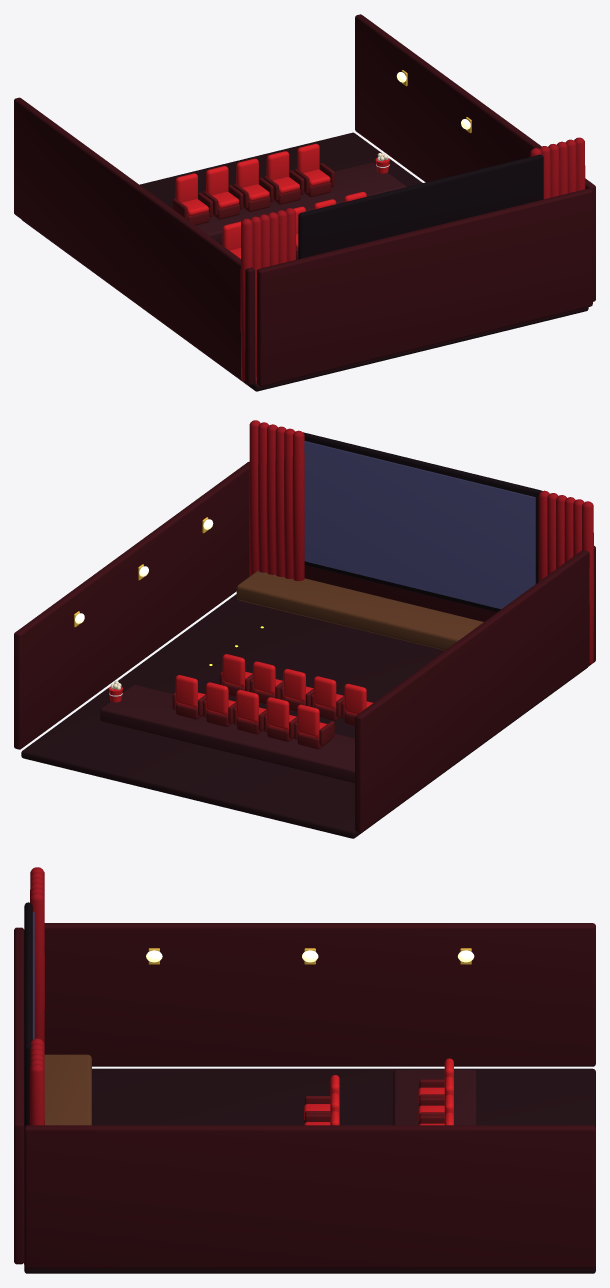
Rendered from room_cinema.glb.
3 renders of one model, top to bottom at view 1: azimuth 30°, elevation 25°; view 2: azimuth 150°, elevation 25°; view 3: azimuth 270°, elevation 25°, orthographic. The views are drawn at different scales.
Parts seen in each view (by area): view 1: Room, ScreenFrame, CurtainLeft, Riser, CurtainRight, Butaca_2_4, Butaca_2_1, Butaca_2_3, Butaca_2_5, Butaca_2_2, Butaca_1_1; view 2: Room, Screen, CurtainRight, Stage, Riser, CurtainLeft, ScreenFrame, Butaca_2_1, Butaca_2_2, Butaca_2_4, Butaca_2_5, Butaca_2_3 (+5 smaller); view 3: Room, Stage, Riser, CurtainLeft, ScreenFrame, CurtainRight, Butaca_2_1, Butaca_2_2, Butaca_1_1.
Part boxes in pixels (x1,y1,x2,y2): Room: (14,14,595,391); ScreenFrame: (298,154,543,259); CurtainLeft: (240,208,295,381); Riser: (196,162,406,244); CurtainRight: (530,137,585,199); Butaca_2_4: (264,151,304,204); Butaca_2_1: (172,173,212,225); Butaca_2_3: (233,158,273,211); Butaca_2_5: (294,143,334,197); Butaca_2_2: (203,166,243,219); Butaca_1_1: (222,221,240,258); Room: (14,461,595,838); Screen: (304,441,535,609); CurtainRight: (249,420,304,581); Stage: (236,571,483,650); Riser: (100,684,354,783); CurtainLeft: (538,490,593,664); ScreenFrame: (303,432,542,612); Butaca_2_1: (294,704,334,749); Butaca_2_2: (264,697,297,741); Butaca_2_4: (203,682,236,726); Butaca_2_5: (172,675,205,719); Butaca_2_3: (233,689,266,734); Room: (14,923,595,1273); Stage: (44,1054,91,1125); Riser: (393,1070,476,1125); CurtainLeft: (30,867,44,1043); ScreenFrame: (24,902,32,1127); CurtainRight: (30,1038,44,1125); Butaca_2_1: (418,1058,453,1106); Butaca_2_2: (418,1076,453,1124); Butaca_1_1: (304,1075,339,1123).
Size of the model in its own units: 9.44 by 4.4 by 11.2.
